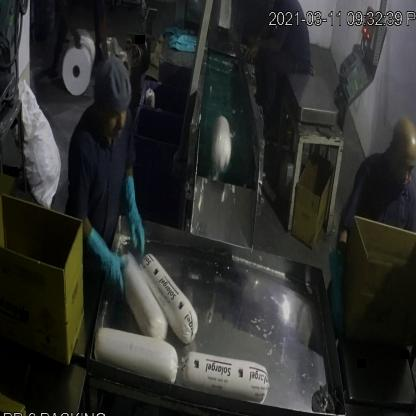glove: (329, 233, 358, 344)
no_glove: (246, 34, 286, 72)
